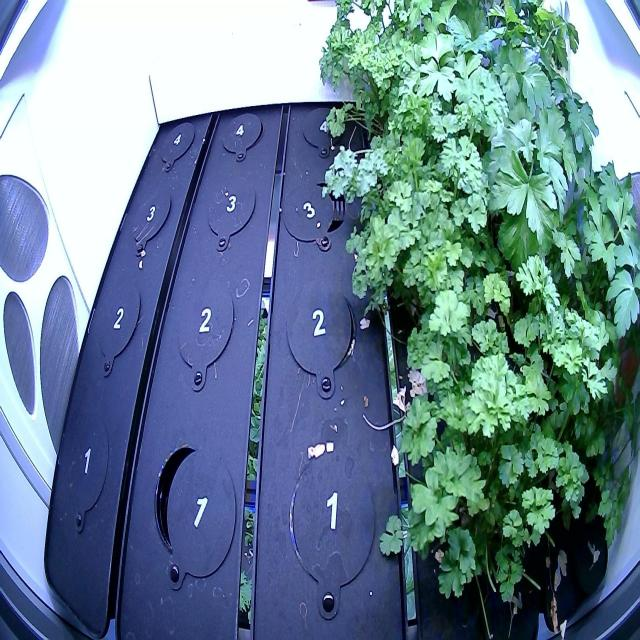empty_pod: (280, 442, 380, 626), (149, 436, 221, 596), (282, 277, 360, 403), (172, 269, 237, 401), (62, 408, 113, 545), (94, 272, 143, 390), (203, 169, 258, 261), (294, 174, 349, 261), (128, 177, 174, 263), (300, 99, 351, 162), (217, 104, 264, 168), (156, 114, 198, 178)
